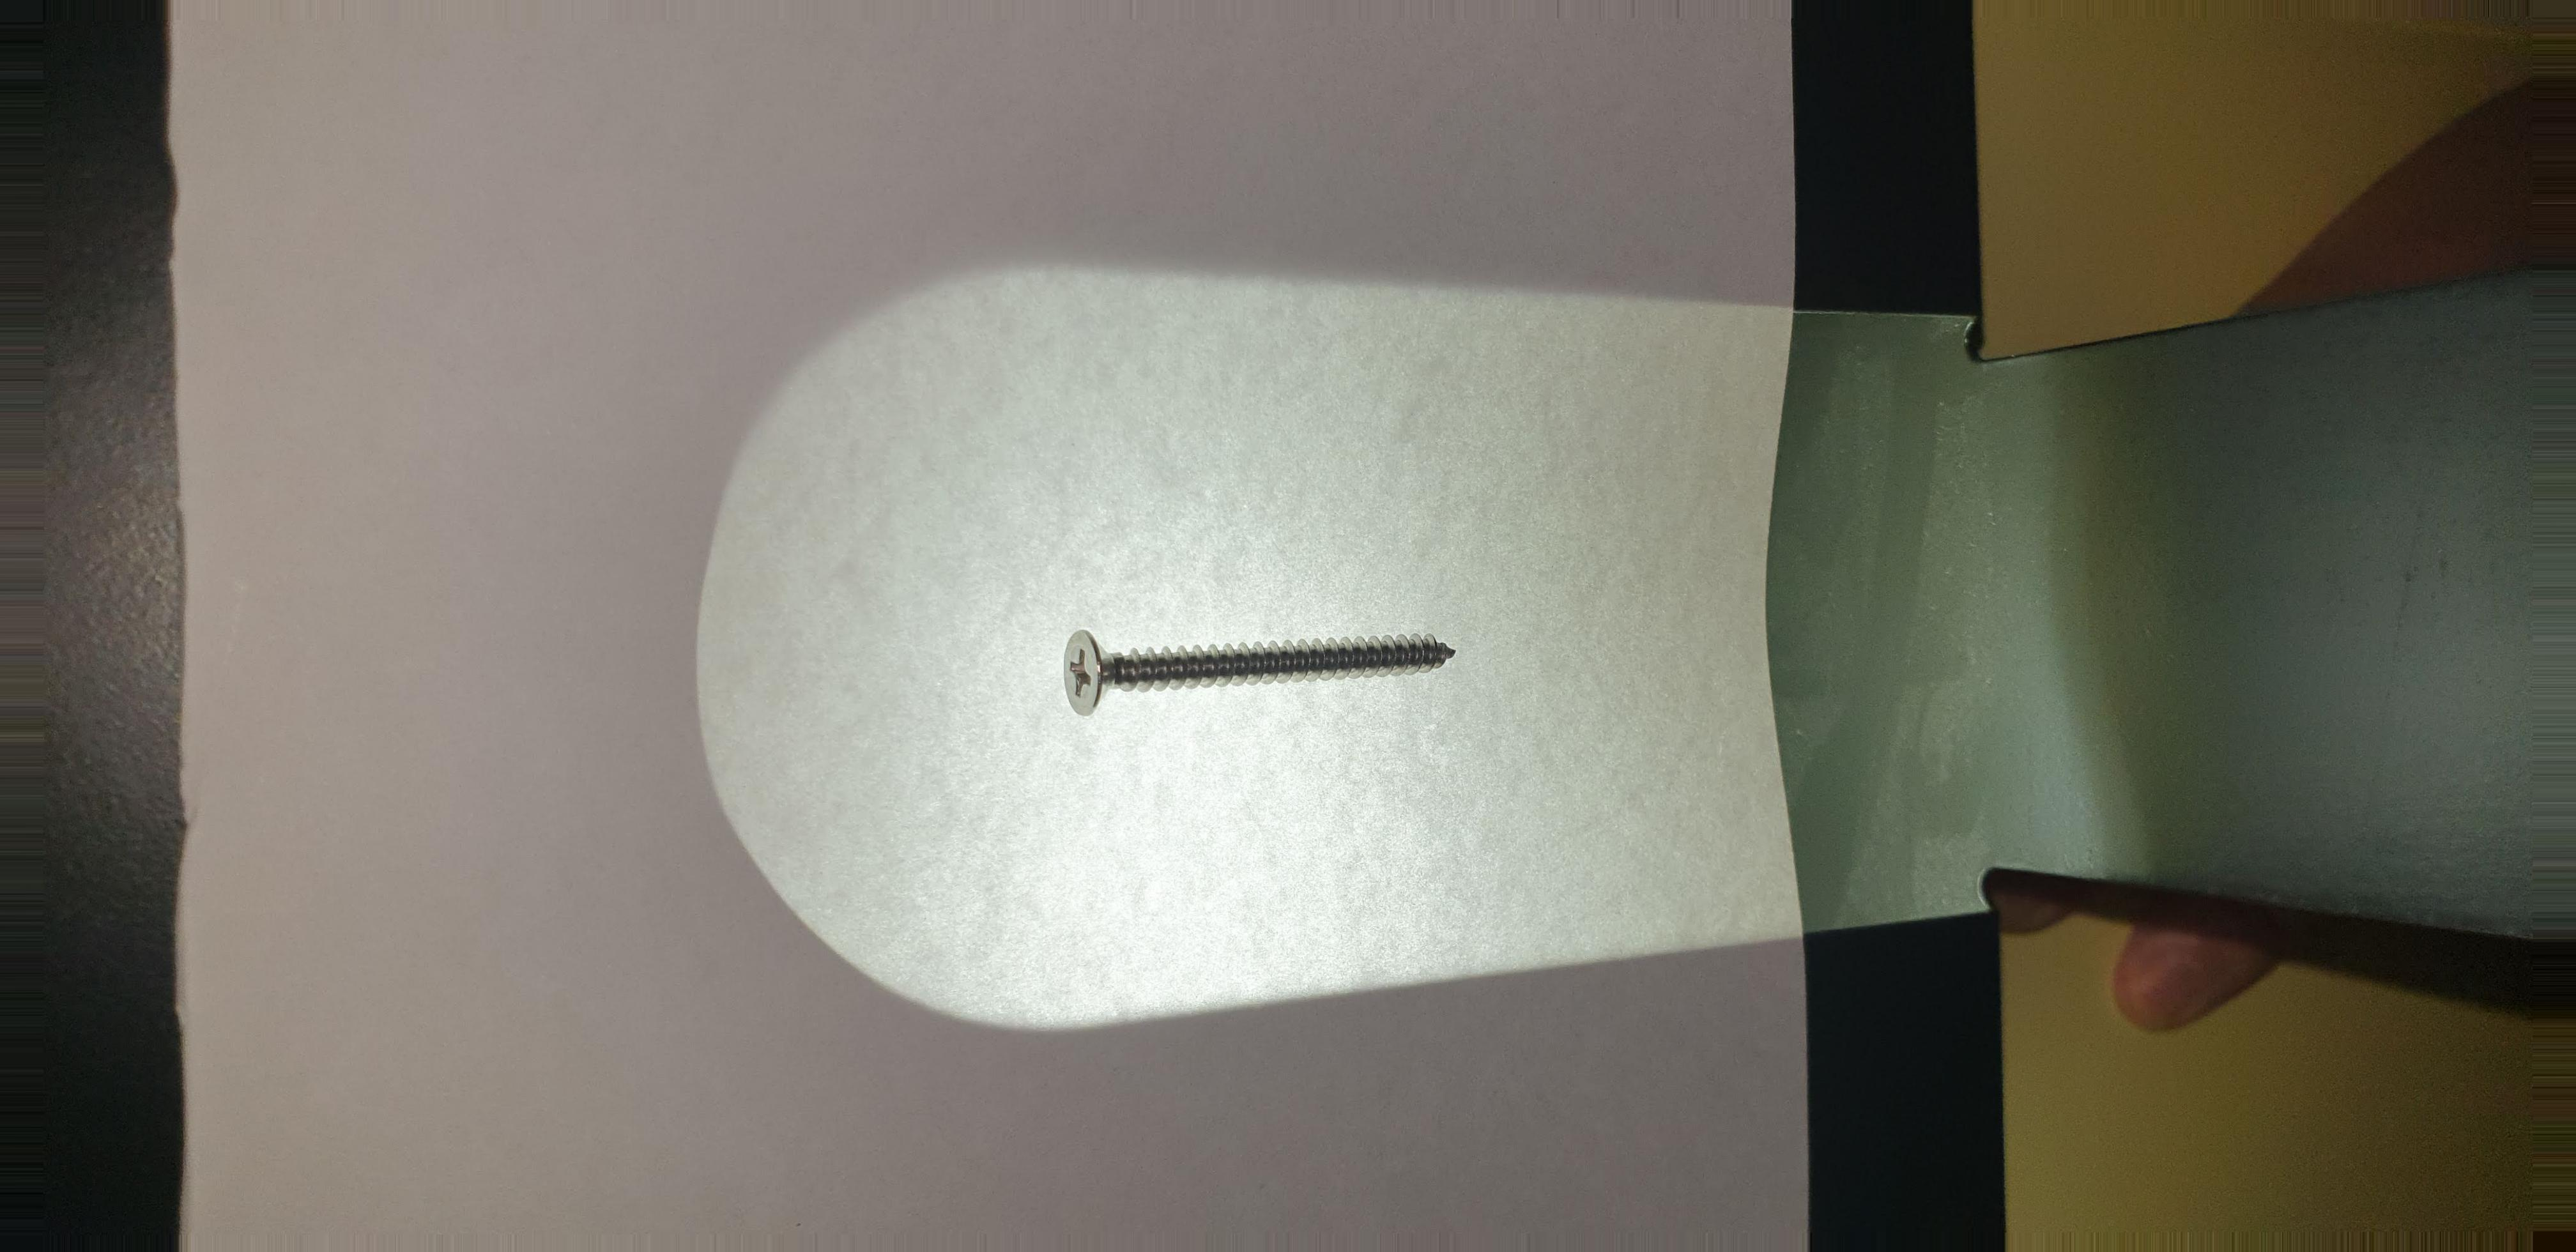fastener: (1037, 564, 1490, 748)
